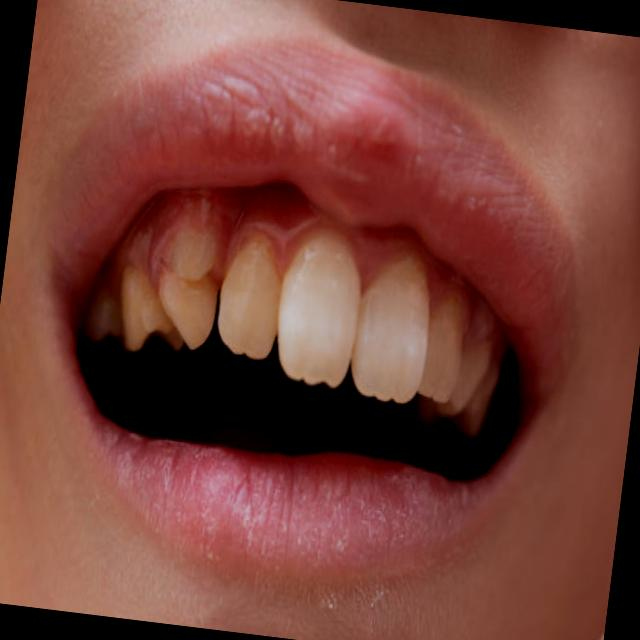calculus: (374, 248, 442, 316), (294, 232, 359, 282), (230, 228, 282, 280), (114, 266, 156, 322), (424, 300, 472, 348)
